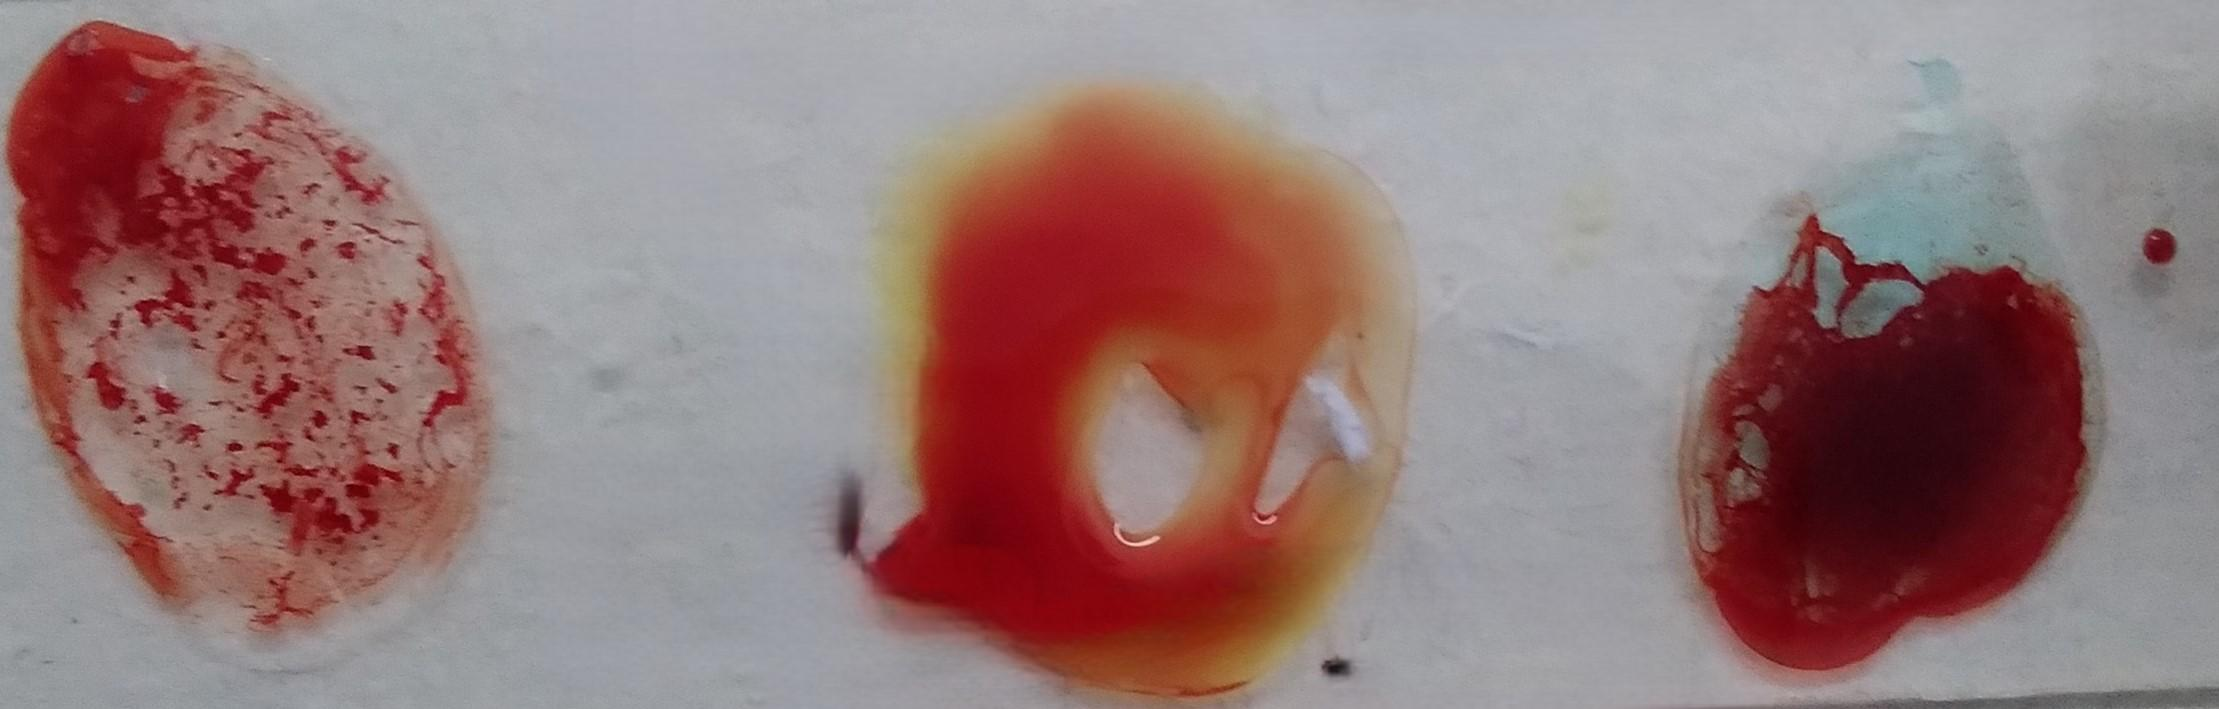A: (1668, 120, 2109, 676)
D: (3, 17, 480, 669)
